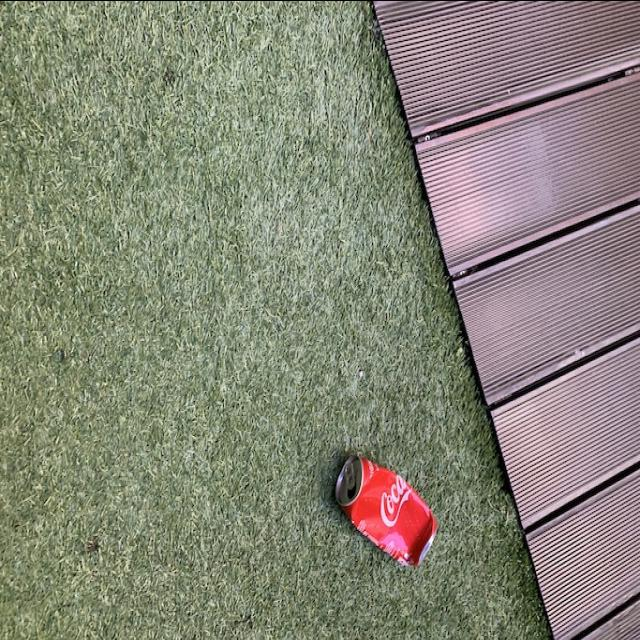Aluminum Can: (323, 448, 442, 572)
